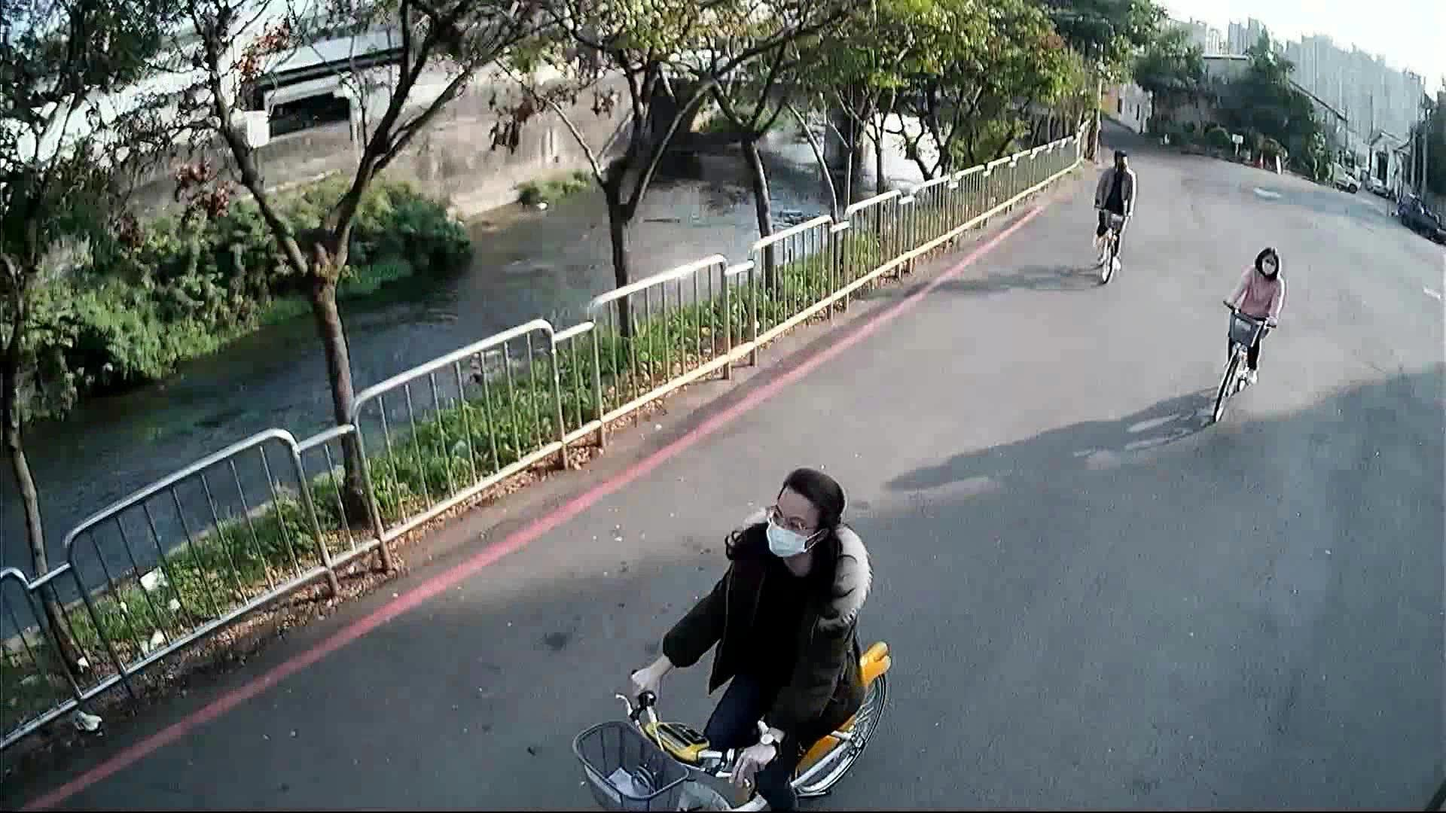person: (610, 455, 878, 812), (1213, 242, 1286, 390), (1088, 145, 1138, 272)
